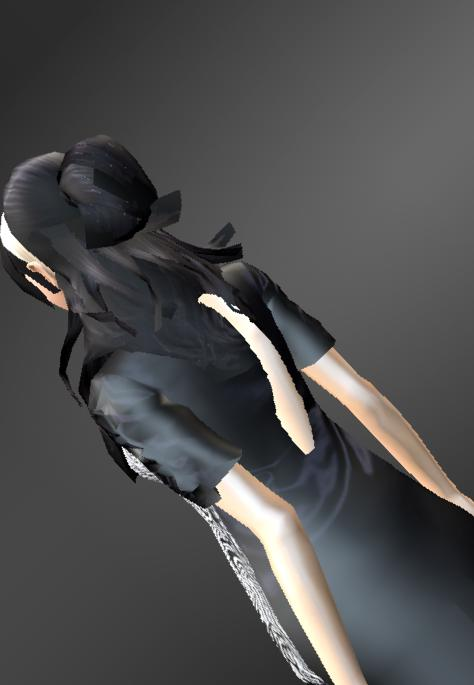clip: (196, 285, 266, 356)
